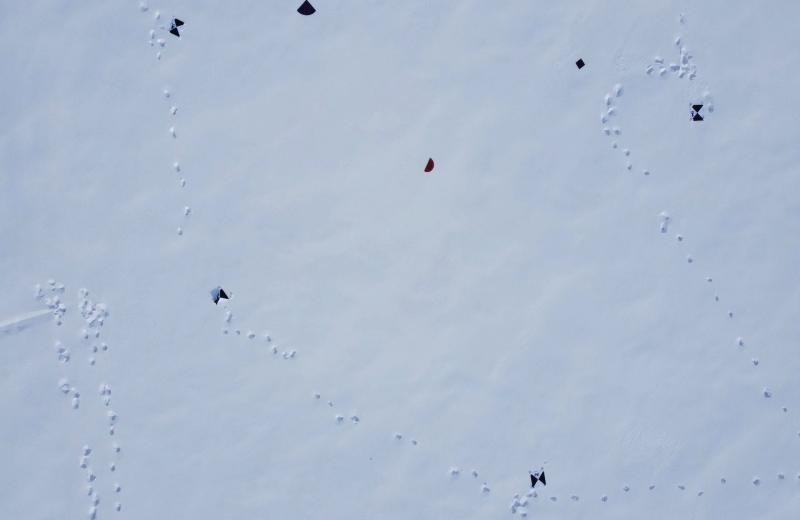Quarter Circle: (295, 0, 317, 19)
Semi Circle: (423, 156, 435, 173)
Square: (575, 57, 585, 70)
